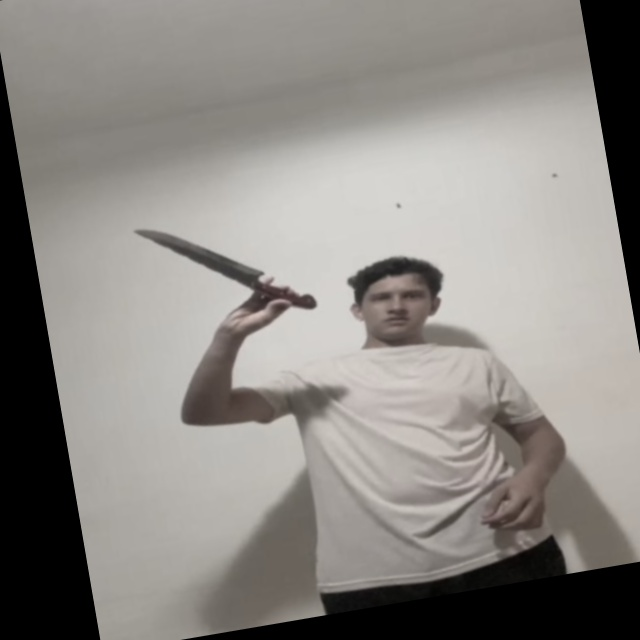Sharp-Object: (133, 207, 270, 303)
